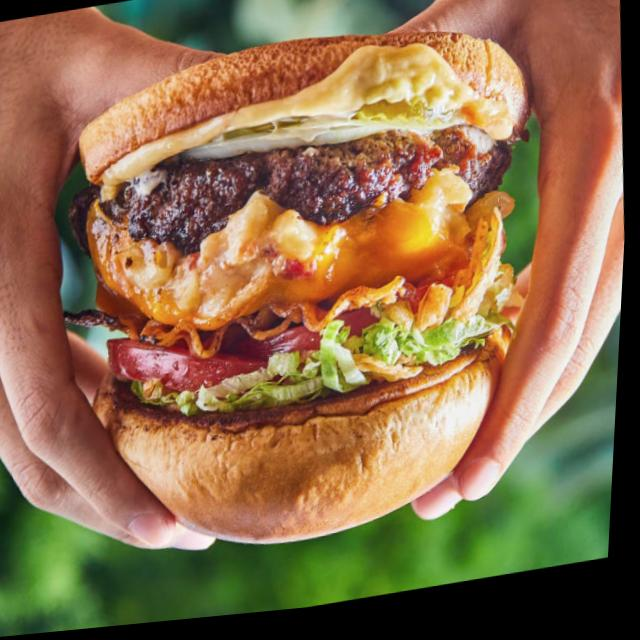burger: (60, 18, 552, 574)
